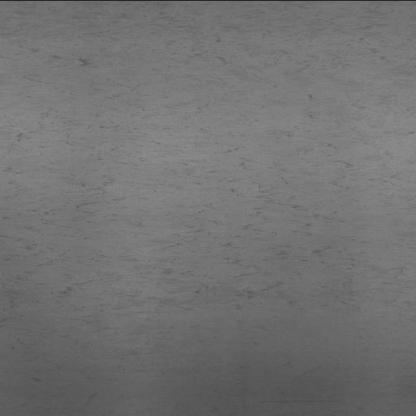silk_spot: (42, 116, 336, 343)
